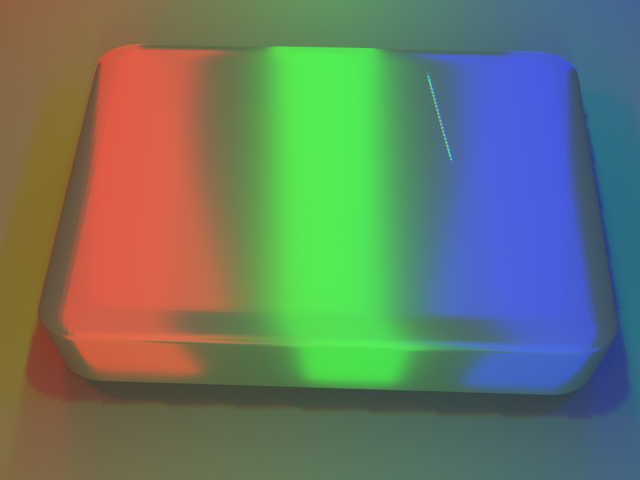scratch: (232, 23, 624, 231)
